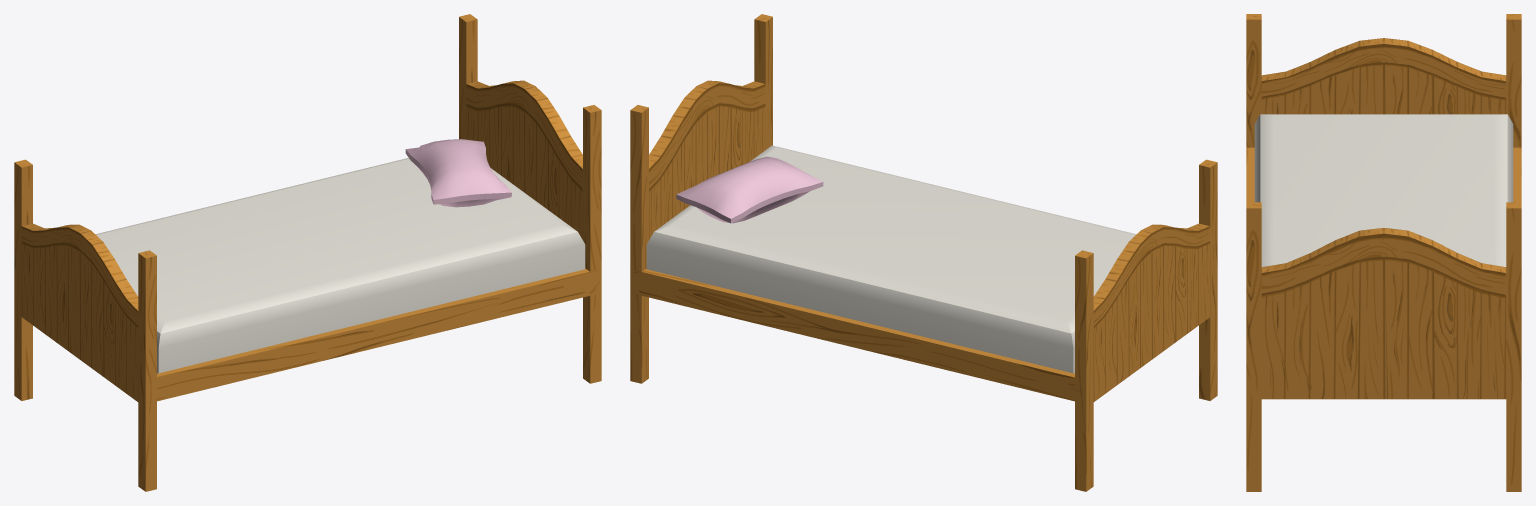
The model's file is Bed_Girl_d.fbx.
3 views of the same model, side by side, from view 1: azimuth 30°, elevation 25°; view 2: azimuth 150°, elevation 25°; view 3: azimuth 270°, elevation 25° (orthographic). The views are drawn at different scales.
Visible parts, largest first — view 1: pillow1; view 2: pillow1; view 3: pillow1.
Part boxes in pixels (left/top/right/bottom): pillow1: left=14, top=14, right=601, bottom=491; pillow1: left=630, top=14, right=1217, bottom=491; pillow1: left=1246, top=14, right=1521, bottom=491.
Bounding box in the file's own units: 30.05 × 17.06 × 15.
